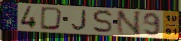4: (20, 5, 38, 30)
9: (142, 11, 162, 36)
D: (39, 6, 64, 31)
J: (70, 9, 88, 31)
N: (115, 10, 143, 36)
S: (91, 9, 113, 34)
